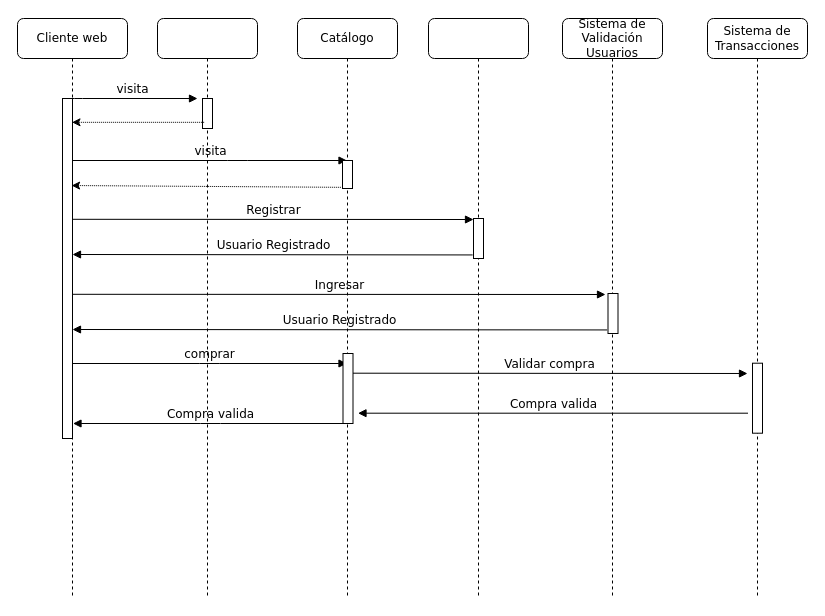
The diagram is 825 pixels wide and 616 high, and some of its shapes have lost their labels. Each missing label, with the box of its shape:
Página web: (156, 18, 258, 598)
Registro: (428, 18, 528, 598)
